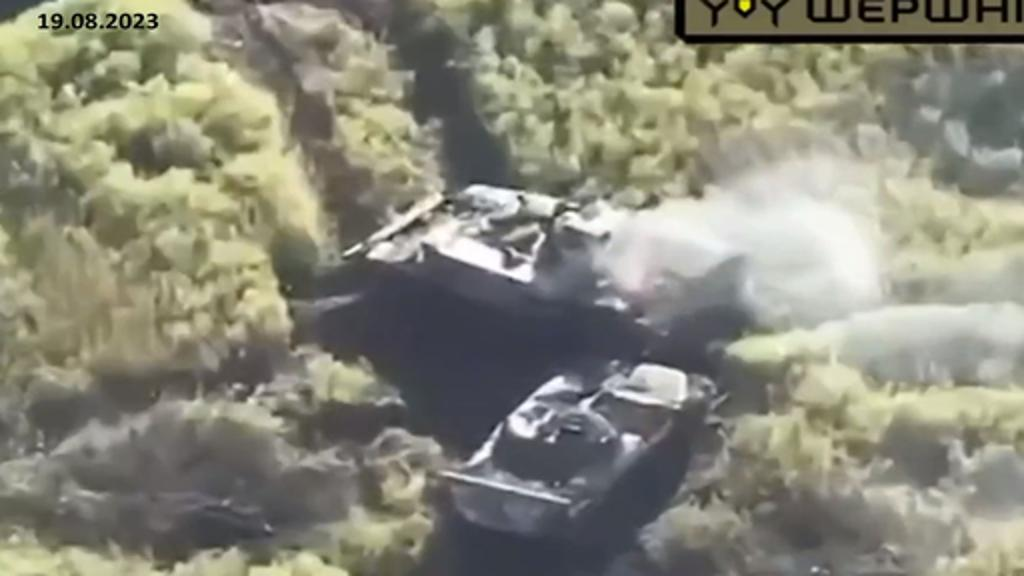APC-IFV: (344, 170, 682, 348), (438, 356, 692, 542)
